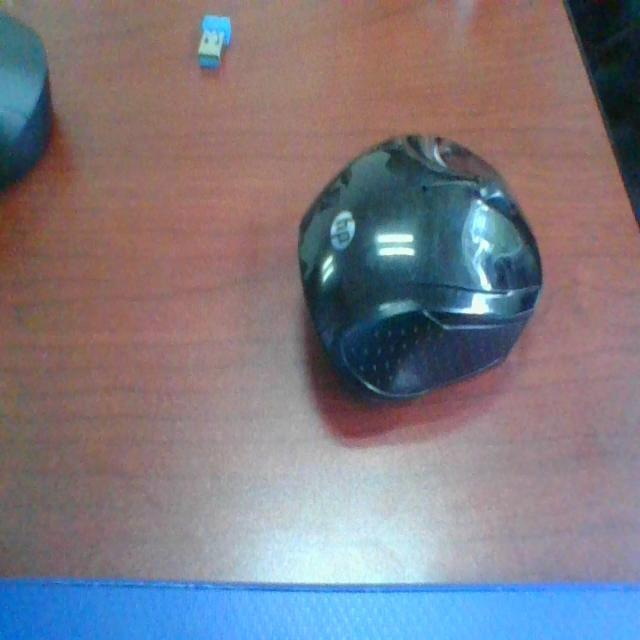Mouse: (297, 123, 574, 385)
